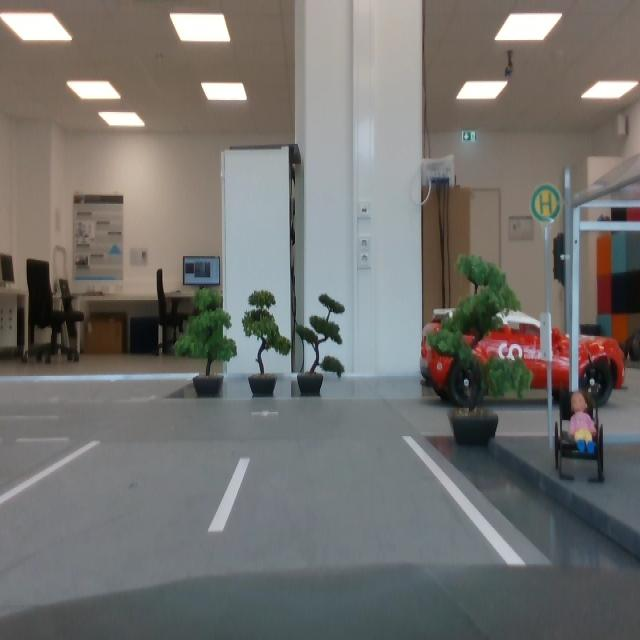car: (420, 306, 626, 409), (619, 328, 640, 362)
person: (568, 390, 597, 453)
potted plant: (428, 254, 533, 446), (173, 286, 238, 396), (241, 289, 291, 396), (295, 292, 346, 396)
traffic light: (552, 233, 567, 286)
